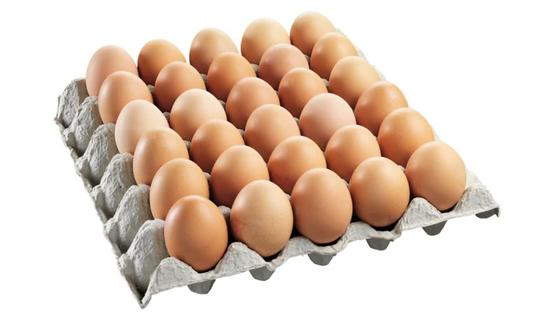egg: (344, 152, 418, 244), (229, 175, 299, 264), (159, 196, 235, 274), (403, 137, 471, 213), (289, 171, 351, 252), (139, 155, 212, 219), (78, 34, 138, 95), (109, 96, 168, 156), (132, 128, 192, 181), (269, 141, 330, 187), (250, 108, 299, 153)
